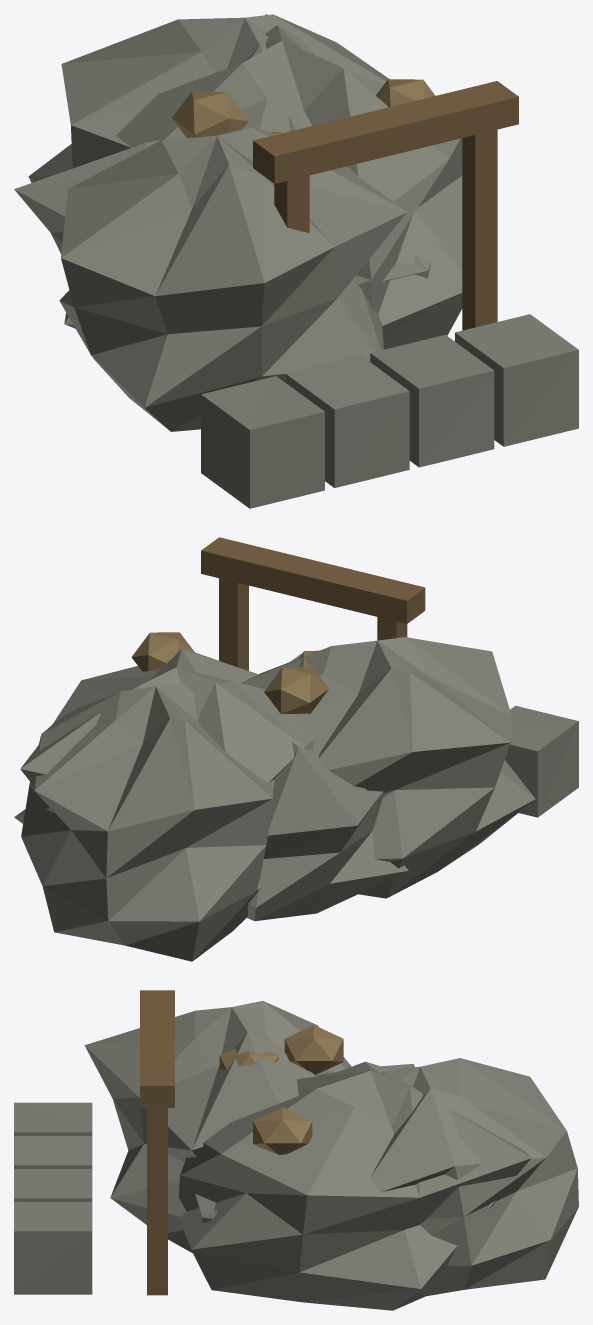
The model's file is stone_quarry.glb.
3 renders of one model, top to bottom at view 1: azimuth 30°, elevation 25°; view 2: azimuth 150°, elevation 25°; view 3: azimuth 270°, elevation 25°, orthographic. The views are drawn at different scales.
Visible parts, largest first — view 1: world-scenery/stone_quarry; view 2: world-scenery/stone_quarry; view 3: world-scenery/stone_quarry.
Boxes of the visible parts, x1=… form: world-scenery/stone_quarry: x1=14, y1=14, x2=578, y2=508; world-scenery/stone_quarry: x1=14, y1=537, x2=578, y2=961; world-scenery/stone_quarry: x1=14, y1=990, x2=578, y2=1310.
Size of the model in its own units: 2.5 by 1.37 by 3.25.
